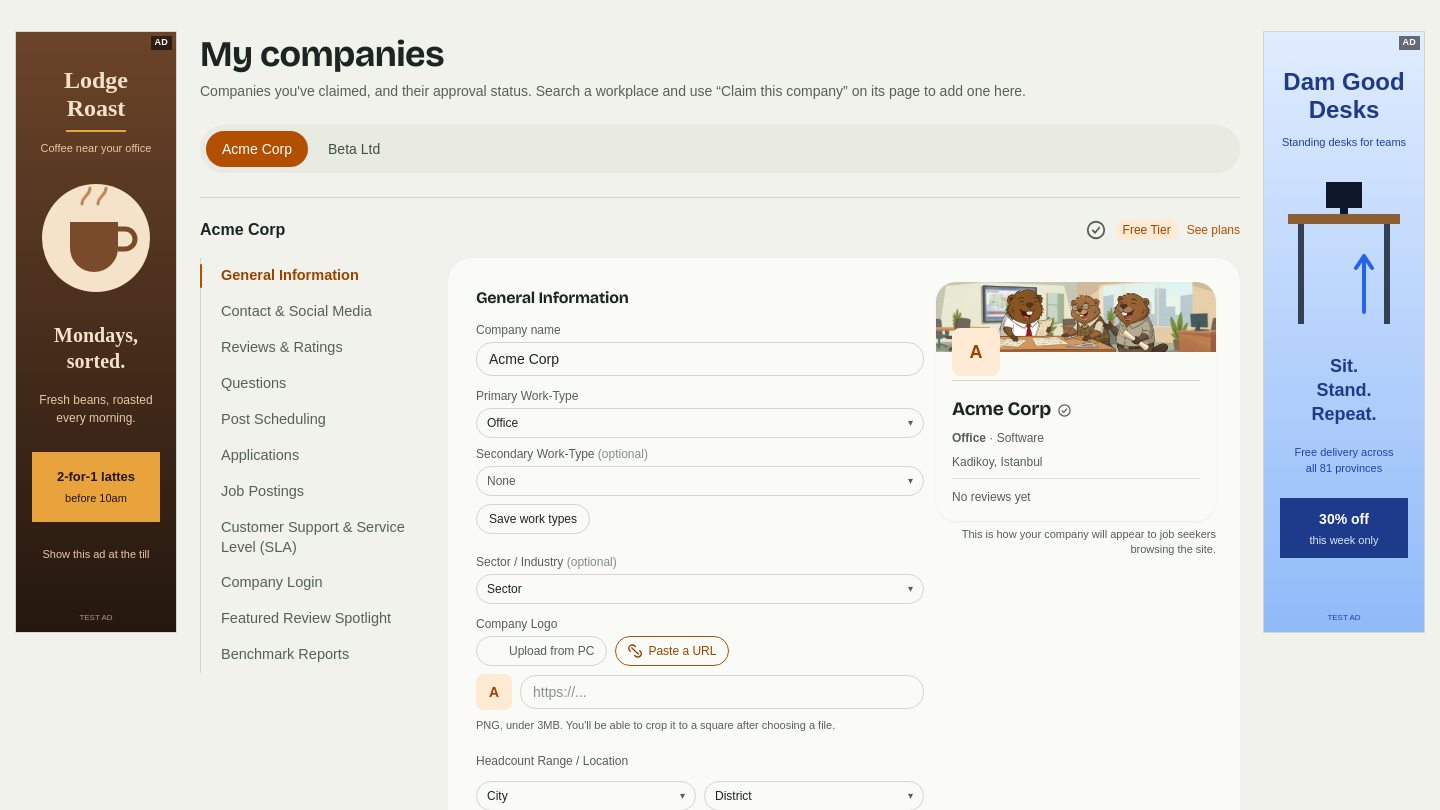
Test: an owner of several companies picks one from tabs under the heading
This screenshot has width=1440, height=810.
Expected: the link "Acme Corp" is shown, [200,218,285,242]
Step 1. Click the button "Beta Ltd" → point(354, 149), box [312,131,396,167]
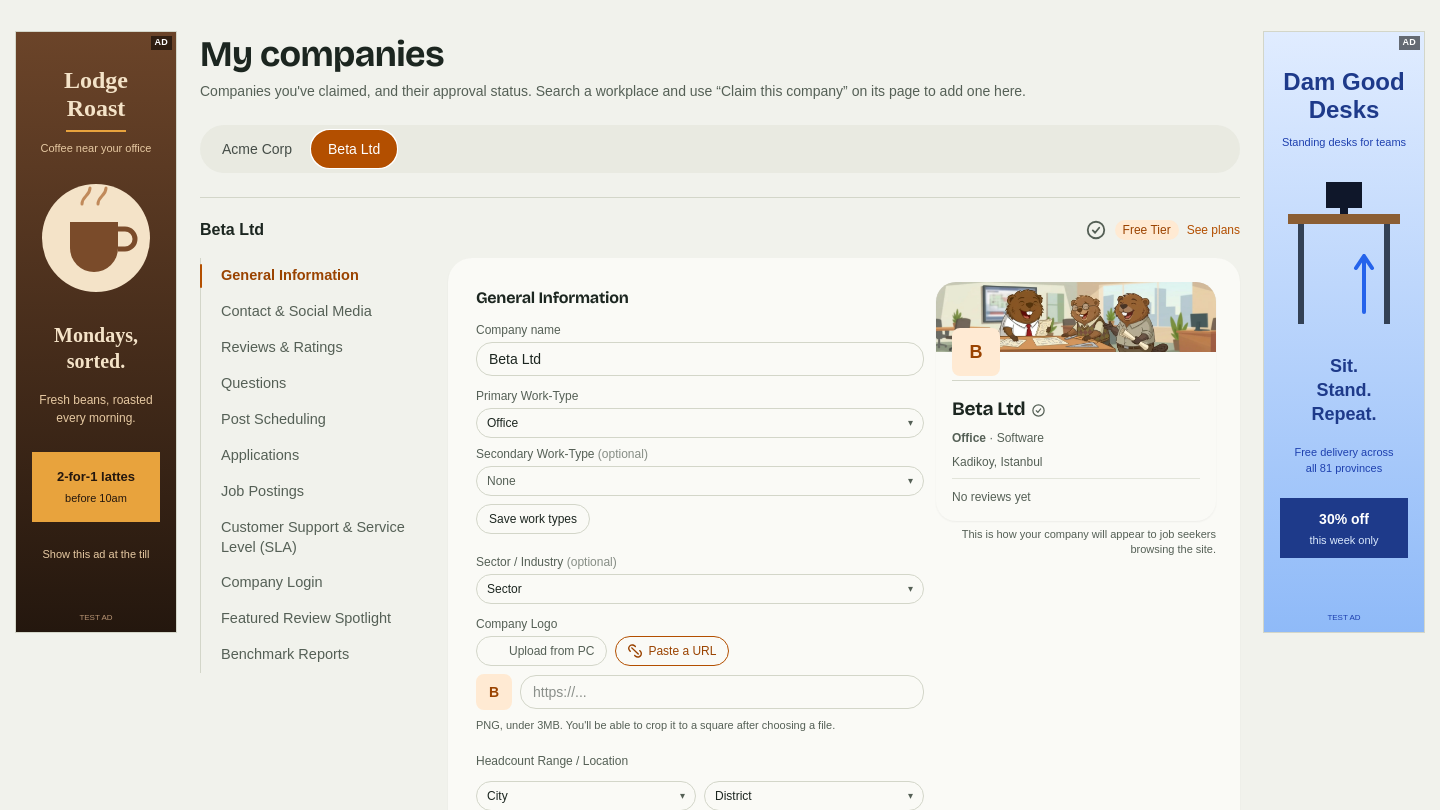
Now the link "Beta Ltd" is shown, box [200,218,264,242]
